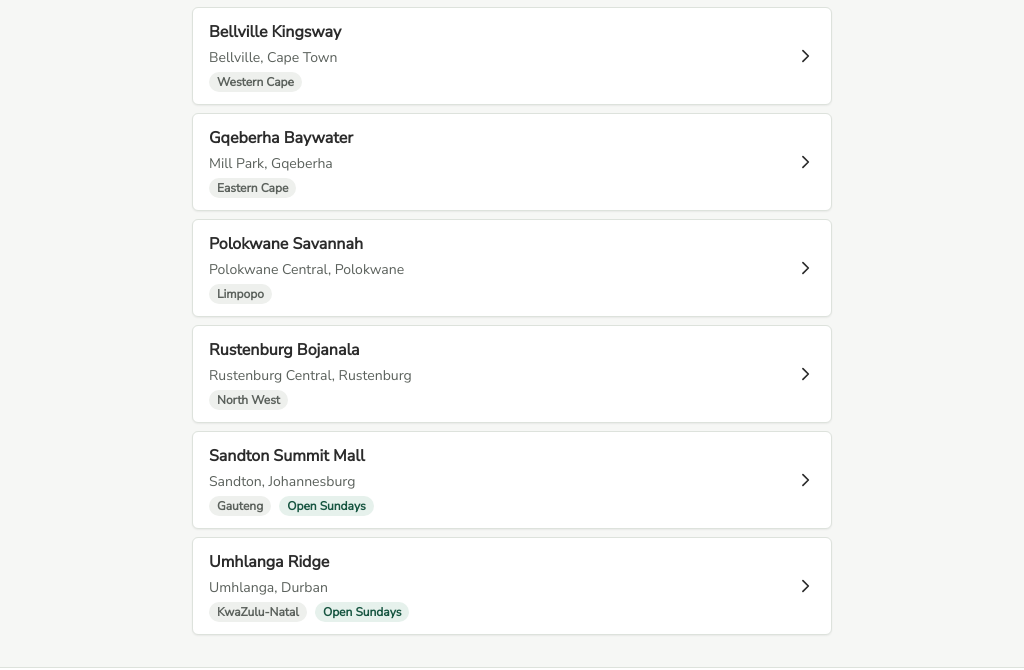
Scenario: BookPage › goes from the branch list through a service to the date and time step, the choices in the URL
(page scrolled)
Step 1. Click the link "Sandton Summit Mall" → [287, 456], box [193,432,831,528]
(page scrolled)
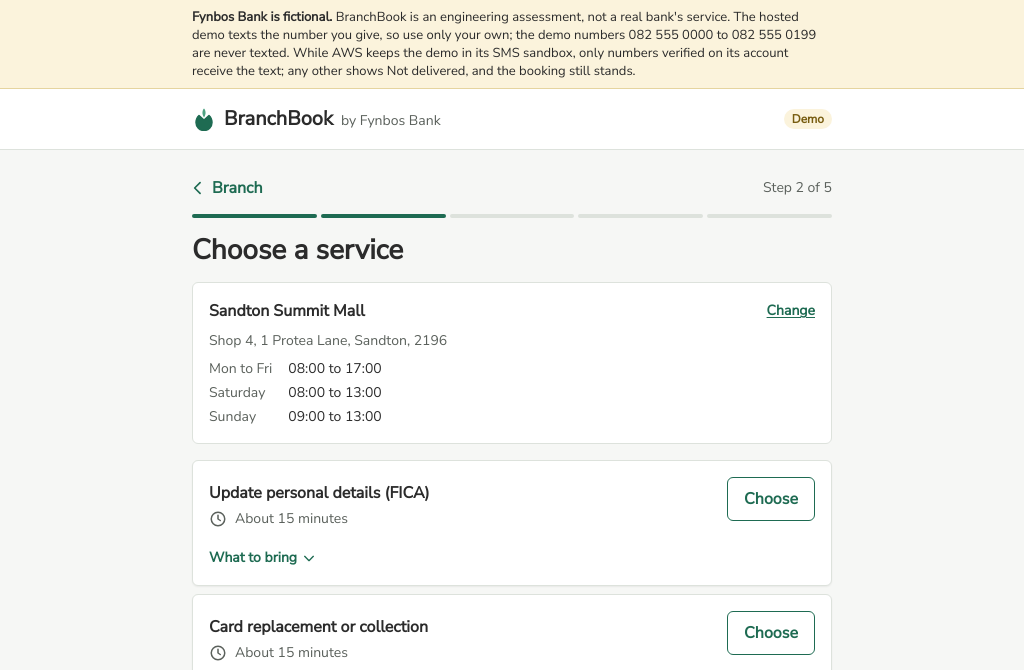
Expected: the text "Step 2 of 5" is shown, [763,178,832,198]
Step 2. Click the button with aria-label "Choose update personal details (FICA)" → [771, 499], box [727,477,815,521]
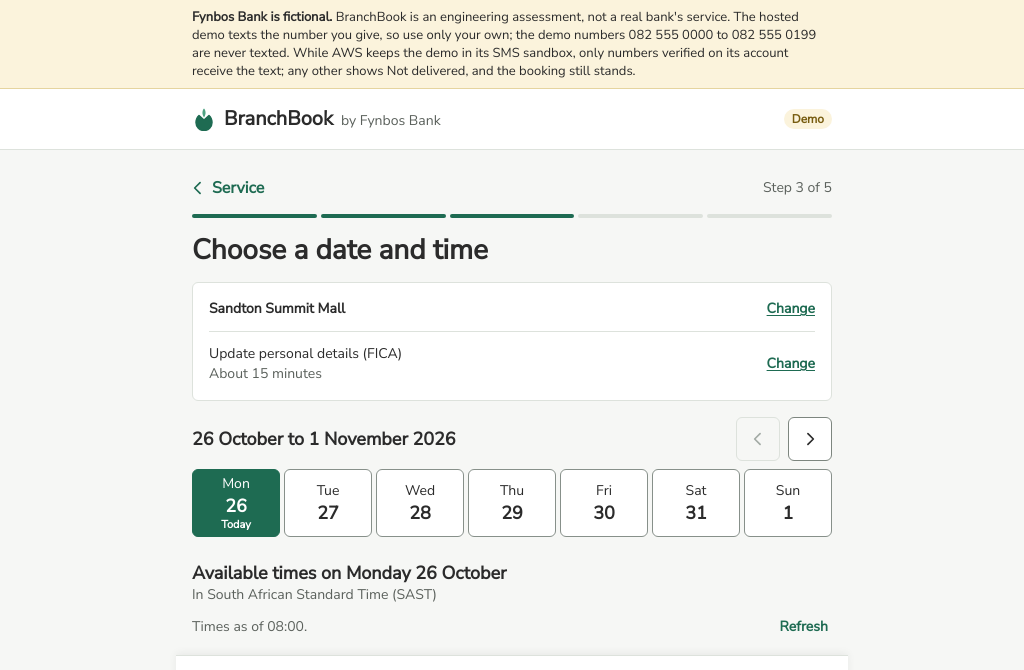
Expected: the element named "Your booking so far" shows "Sandton Summit Mall", [209,299,345,318]
Expected: the text "Step 3 of 5" is shown, [763,178,832,198]
Expected: the element named "Your booking so far" shows "Update personal details (FICA)", [209,344,402,363]
